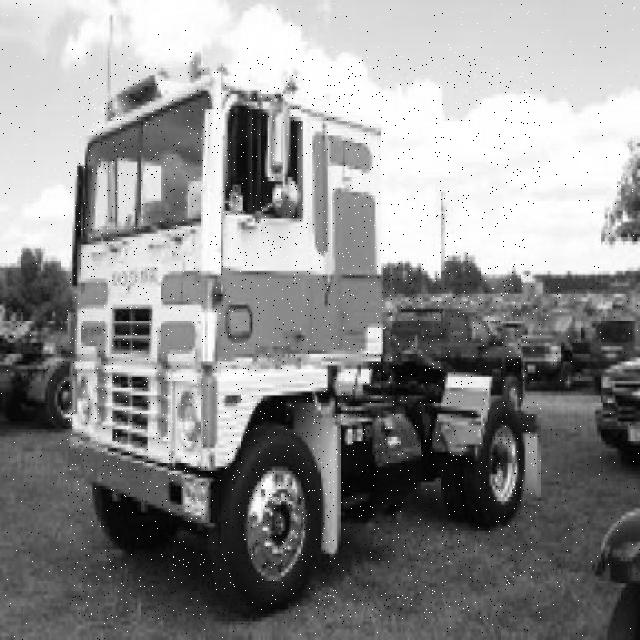Tractor Trailer: (67, 56, 541, 619)
